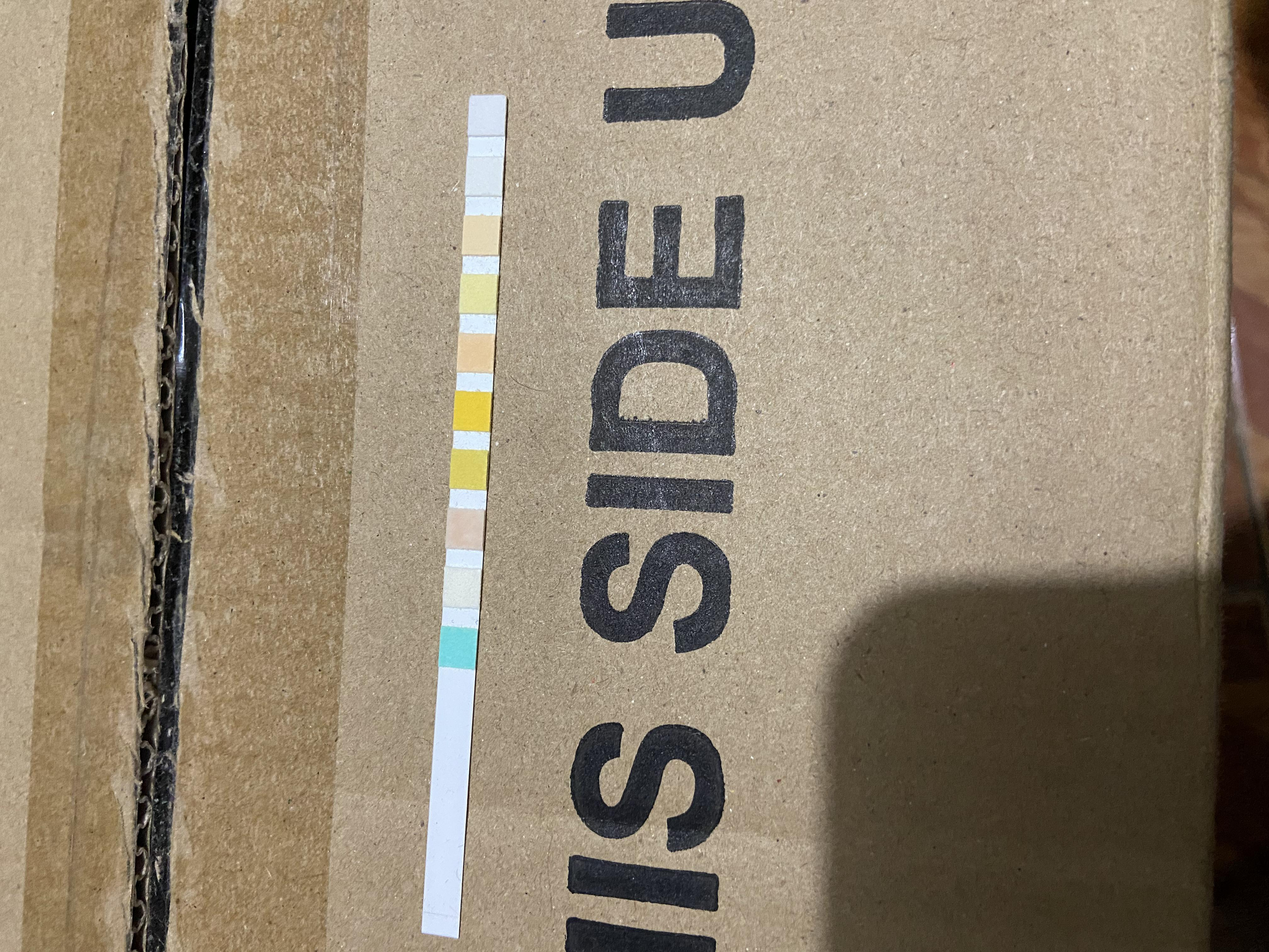Bilirubin: (446, 569, 480, 605)
Blood: (456, 393, 487, 429)
Glucose: (443, 630, 475, 665)
Ketone: (449, 512, 482, 548)
Leukocytes: (471, 99, 504, 134)
Nitrite: (468, 158, 502, 195)
Protein: (462, 276, 494, 311)
SpGravity: (453, 451, 486, 486)
Urobilinogen: (464, 218, 498, 253)
pH: (460, 335, 492, 370)
strip: (423, 97, 506, 937)
